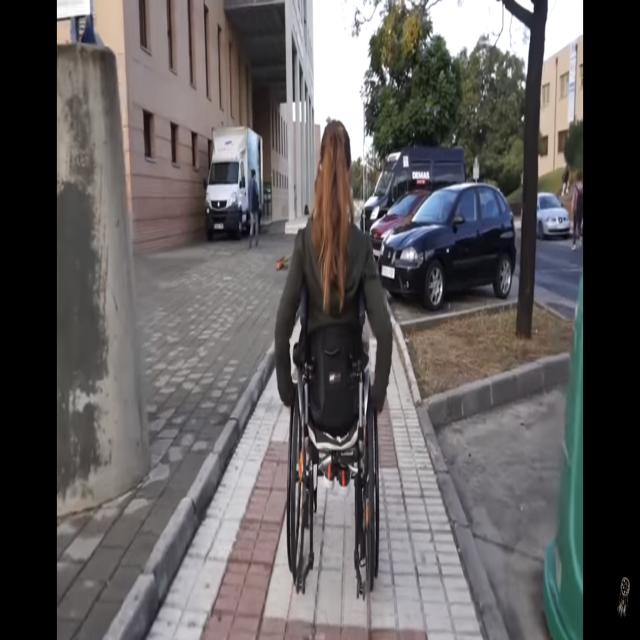wheelchairs: (286, 280, 382, 604)
